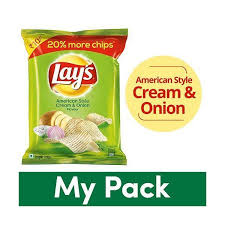lays-small: (20, 25, 132, 172)
